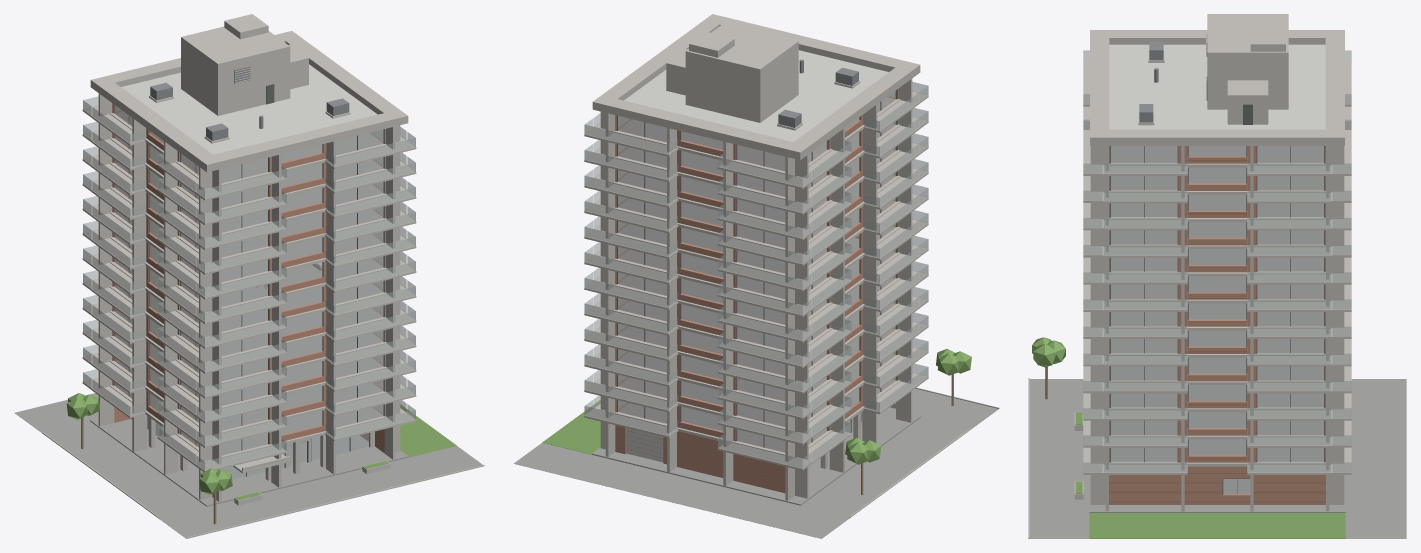
File: clay-slab-balcony-tower-clay-v005.glb
3 renders of one model, left to right at view 1: azimuth 30°, elevation 25°; view 2: azimuth 150°, elevation 25°; view 3: azimuth 270°, elevation 25°, orthographic. The views are drawn at different scales.
Parts seen in each view (by area): view 1: CLAY_CONCRETE, CLAY_GLASS, CLAY_FLOOR, CLAY_FOUNDATION, CLAY_WALL, CLAY_MEMBRANE, CLAY_PLANTING, CLAY_TRIM, CLAY_HARDWARE, CLAY_STONE; view 2: CLAY_CONCRETE, CLAY_GLASS, CLAY_FLOOR, CLAY_FOUNDATION, CLAY_WALL, CLAY_MEMBRANE, CLAY_PLANTING, CLAY_TRIM, CLAY_PALE, CLAY_JOINT, CLAY_HARDWARE; view 3: CLAY_CONCRETE, CLAY_GLASS, CLAY_FLOOR, CLAY_FOUNDATION, CLAY_WALL, CLAY_MEMBRANE, CLAY_PLANTING, CLAY_JOINT, CLAY_TRIM, CLAY_HARDWARE.
Boxes of the visible parts, box(x1,y1,x2,y2) form: CLAY_CONCRETE: box(82, 14, 416, 505); CLAY_GLASS: box(83, 96, 415, 479); CLAY_FLOOR: box(115, 111, 383, 454); CLAY_FOUNDATION: box(14, 393, 482, 538); CLAY_WALL: box(112, 103, 385, 455); CLAY_MEMBRANE: box(121, 64, 377, 154); CLAY_PLANTING: box(66, 393, 456, 499); CLAY_TRIM: box(113, 84, 384, 476); CLAY_HARDWARE: box(150, 66, 349, 140); CLAY_STONE: box(42, 432, 484, 538); CLAY_CONCRETE: box(584, 14, 928, 500); CLAY_GLASS: box(584, 82, 928, 468); CLAY_FLOOR: box(618, 97, 894, 452); CLAY_FOUNDATION: box(513, 388, 998, 538); CLAY_WALL: box(615, 88, 898, 492); CLAY_MEMBRANE: box(624, 50, 888, 141); CLAY_PLANTING: box(542, 348, 971, 464); CLAY_TRIM: box(617, 90, 897, 447); CLAY_PALE: box(626, 81, 860, 462); CLAY_JOINT: box(615, 121, 862, 492); CLAY_HARDWARE: box(626, 59, 858, 457); CLAY_CONCRETE: box(1074, 14, 1351, 511); CLAY_GLASS: box(1083, 50, 1351, 493); CLAY_FLOOR: box(1111, 146, 1323, 461); CLAY_FOUNDATION: box(1029, 379, 1406, 538); CLAY_WALL: box(1109, 146, 1325, 504); CLAY_MEMBRANE: box(1109, 44, 1325, 129); CLAY_PLANTING: box(1032, 337, 1345, 538); CLAY_JOINT: box(1109, 160, 1325, 502); CLAY_TRIM: box(1110, 77, 1324, 494); CLAY_HARDWARE: box(1139, 34, 1207, 122).
Size of the model in its own units: 37.36 by 47 by 37.2.
